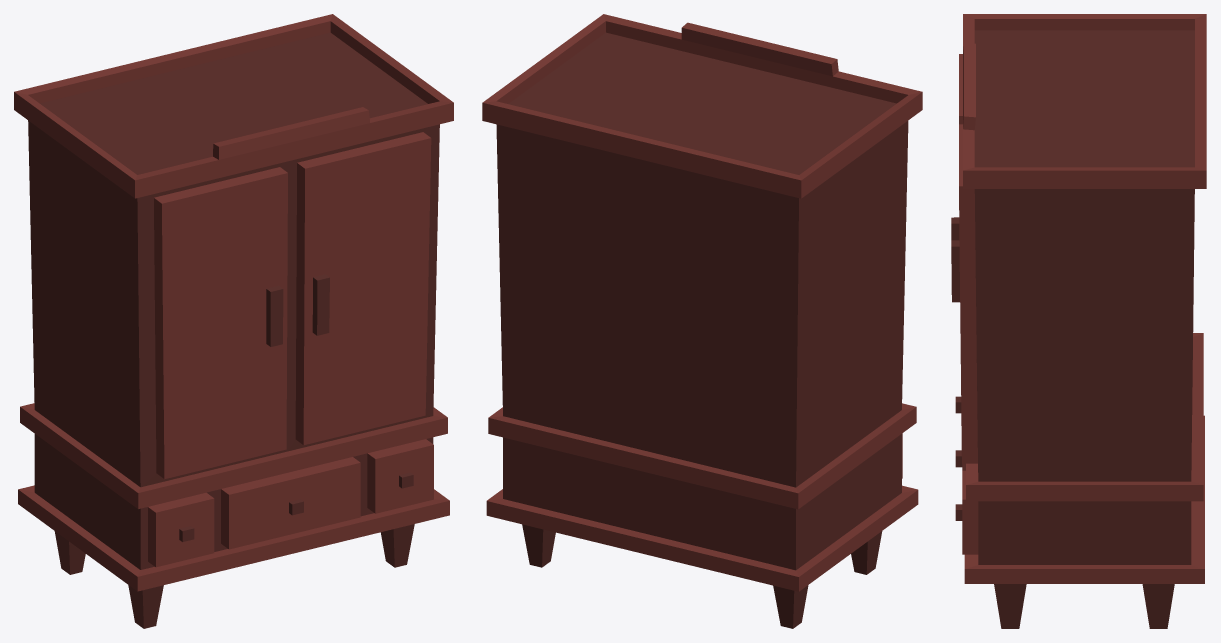
Rendered from quaternius-closet-2.glb.
3 views of the same model, side by side, from view 1: azimuth 30°, elevation 25°; view 2: azimuth 150°, elevation 25°; view 3: azimuth 270°, elevation 25° (orthographic).
Visible parts, largest first — view 1: Closet2; view 2: Closet2; view 3: Closet2.
Boxes of the visible parts, x1=… form: Closet2: x1=14, y1=14, x2=453, y2=628; Closet2: x1=482, y1=14, x2=922, y2=628; Closet2: x1=951, y1=14, x2=1206, y2=628.
Bounding box in the file's own units: 0.6895 × 0.9958 × 0.4755.
